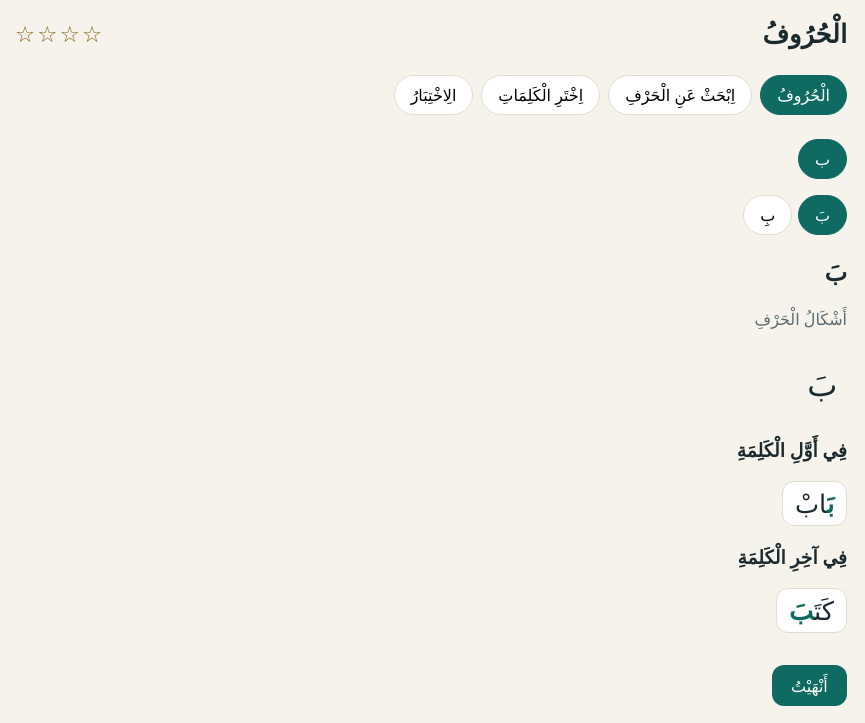
the Arabic letters lesson page › lesson 3: the letters first, then that letter's harakat; only the letter carrying the mark counts
expect the buttons read "ب", in this order: met, box 798,139 -> 847,179
expect the buttons read "بَ", "بِ", in this order: met, box 798,195 -> 847,235; 743,195 -> 792,235
Click the button "اِبْحَثْ عَنِ الْحَرْفِ" at (680,95), box 608,75 -> 752,115
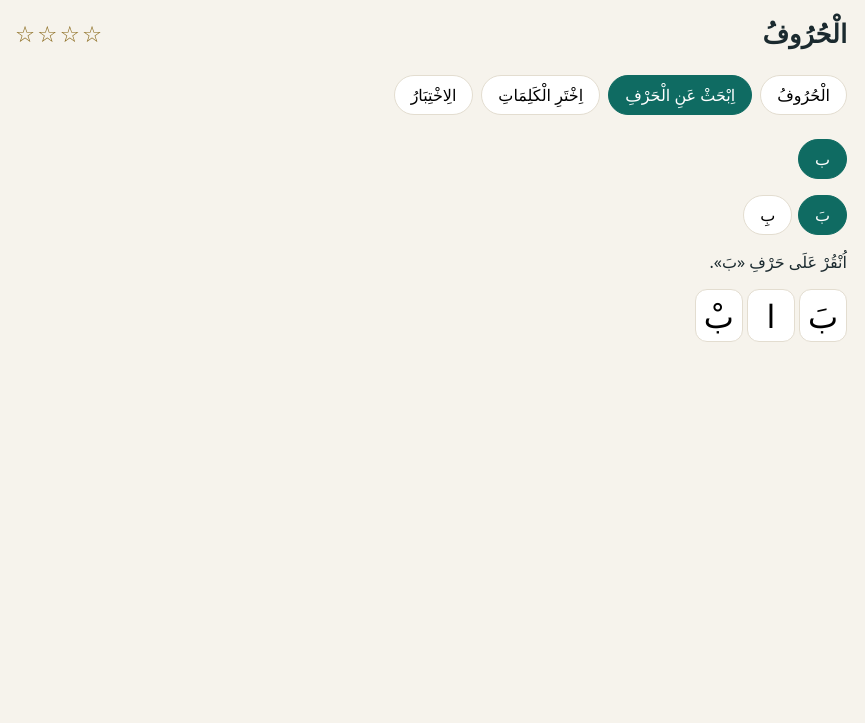
Click the button "بْ" at (719,316), box 695,289 -> 743,342
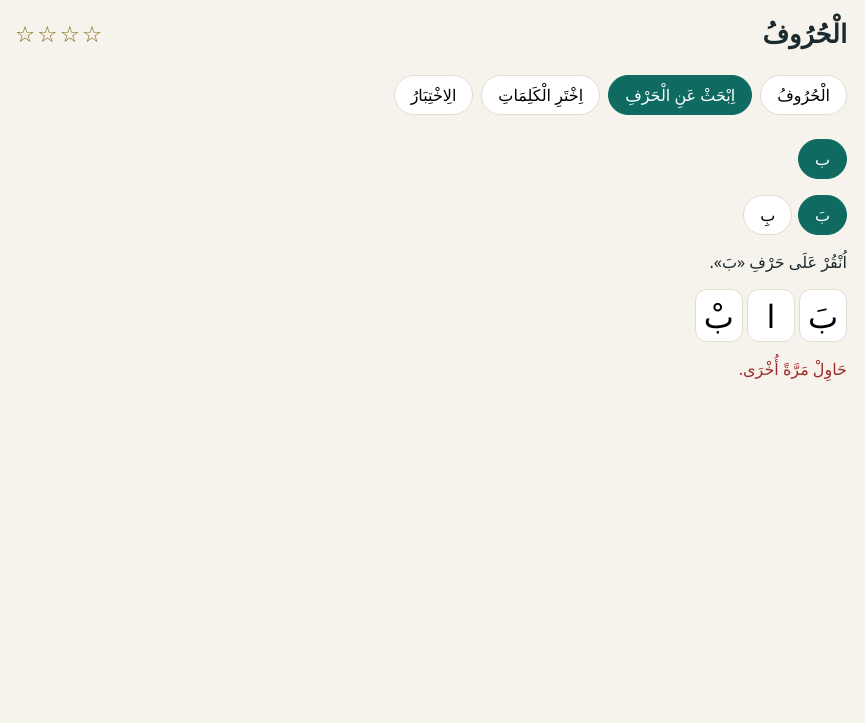
expect the message reads "حَاوِلْ مَرَّةً أُخْرَى.": met, box 739,358 -> 847,380
Click the button "بَ" below "اُنْقُرْ عَلَى حَرْفِ «بَ»." at (823,316), box 799,289 -> 847,342
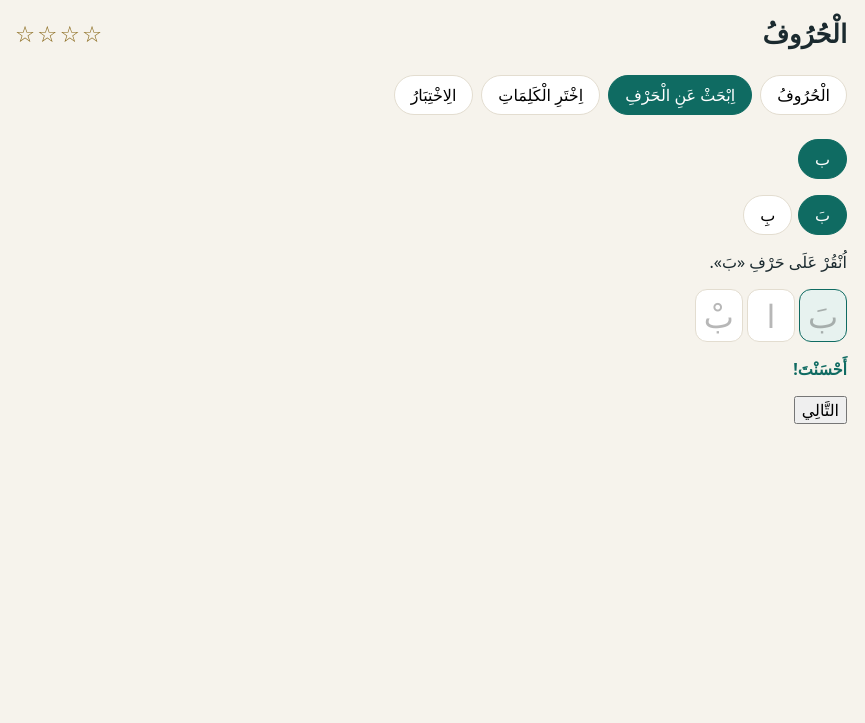
expect the message reads "أَحْسَنْتَ!": met, box 793,358 -> 847,380
